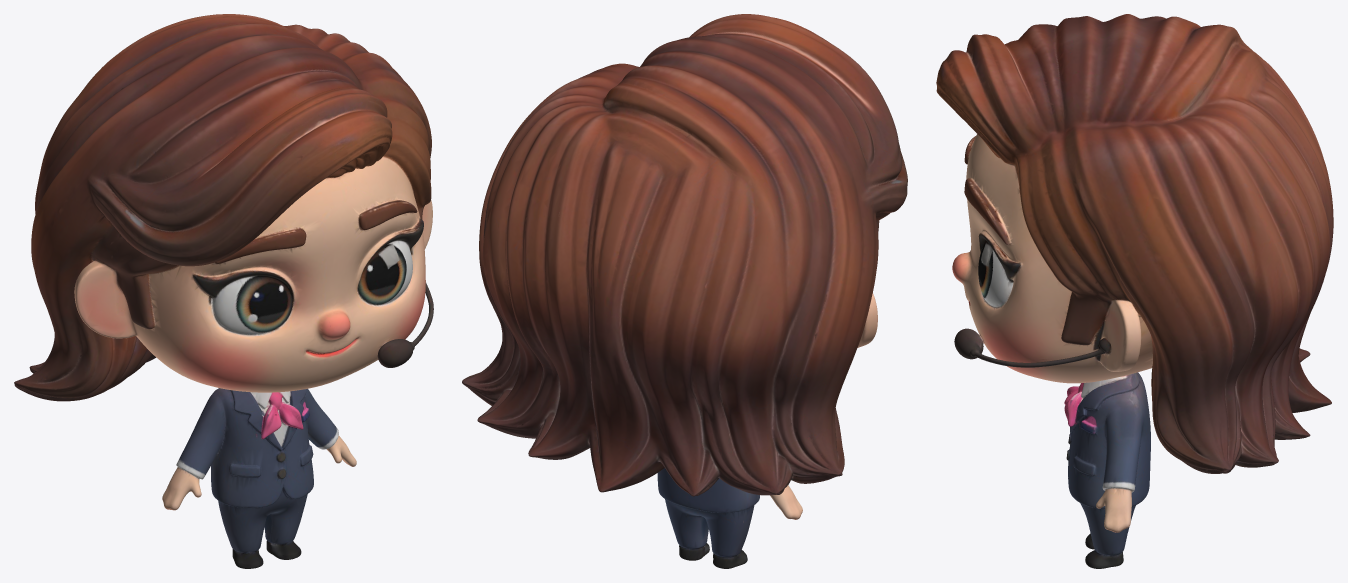
Rendered from support.glb.
3 renders of one model, left to right at view 1: azimuth 30°, elevation 25°; view 2: azimuth 150°, elevation 25°; view 3: azimuth 270°, elevation 25°, orthographic. The views are drawn at different scales.
Bounding box in the file's own units: 51030 × 65534 × 45364.
Materials: 1 (1 with a texture image).
